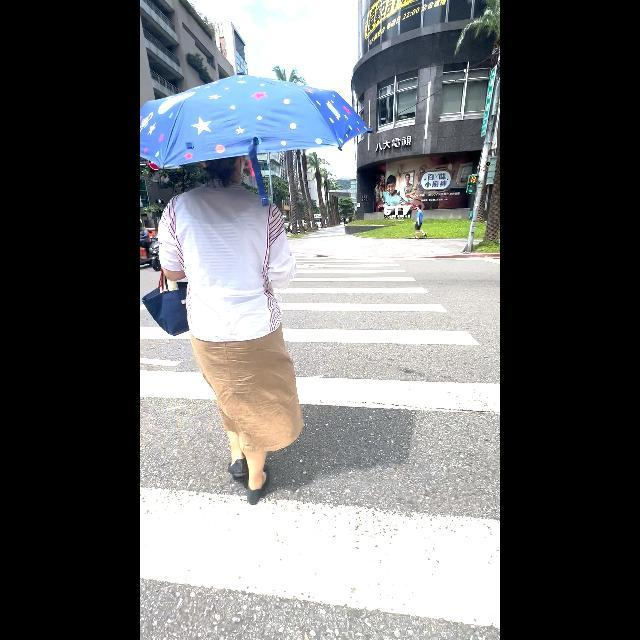sidewalk: (141, 259, 500, 629)
